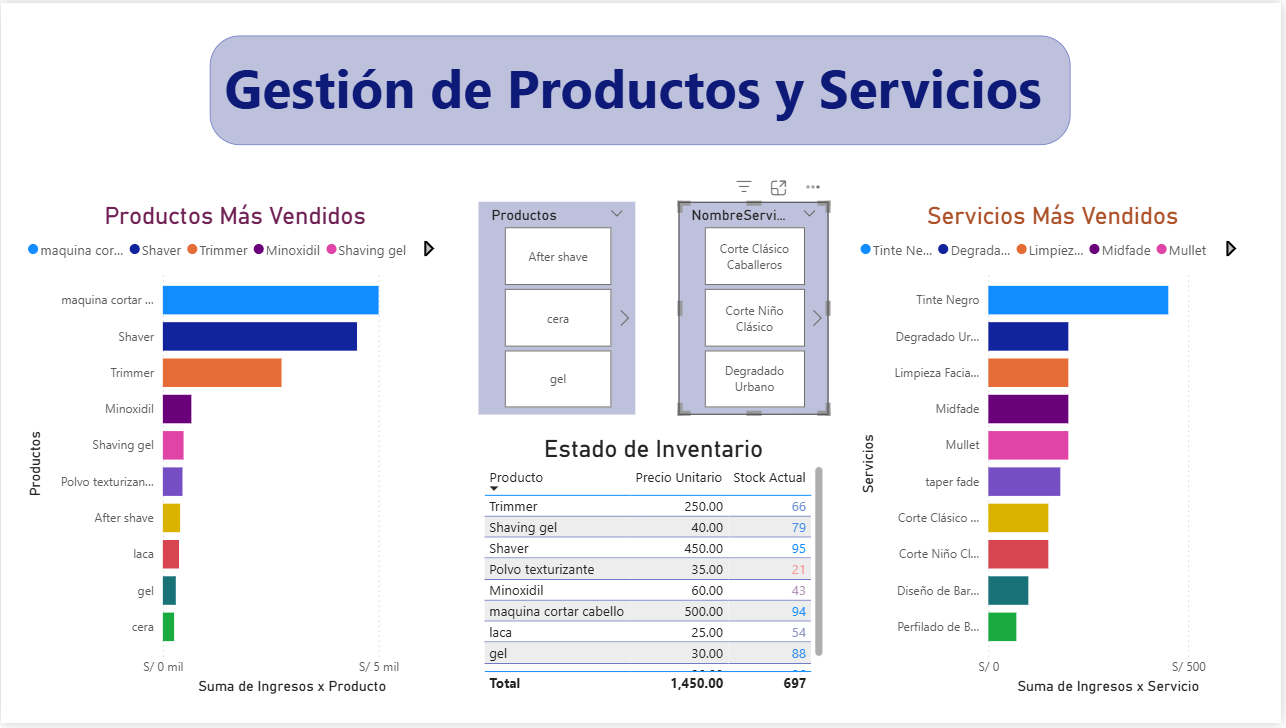

The page's visual inventory and layout, read from the dashboard file:
{"tool":"powerbi","page":{"name":"Gestión de Productos y Servicios","canvas":[1280,720],"ordinal":2},"visuals":[{"type":"barChart","title":"Productos Más Vendidos","fields":{"Category":["V_ProductosMasVendidos.NombreProducto"],"Y":["Sum(V_ProductosMasVendidos.IngresosPorProducto)"],"Series":["V_ProductosMasVendidos.NombreProducto"]},"box":[21.4,198.6,425.7,497.1],"z":0},{"type":"barChart","title":"Servicios Más Vendidos","fields":{"Category":["V_ServiciosMasVendidos.NombreServicio"],"Y":["Sum(V_ServiciosMasVendidos.IngresosPorServicio)"],"Series":["V_ServiciosMasVendidos.NombreServicio"]},"box":[854.3,198.6,395.7,497.1],"z":1000},{"type":"tableEx","title":"Estado de Inventario","fields":{"Values":["V_NivelStockProductos.NombreProducto","Sum(V_NivelStockProductos.PrecioUnitario)","Sum(V_NivelStockProductos.StockActual)"]},"box":[477.1,431.4,350,262.9],"z":2000},{"type":"slicer","fields":{"Values":["V_ProductosMasVendidos.NombreProducto"]},"box":[477.1,198.6,157.1,212.9],"z":3000},{"type":"slicer","fields":{"Values":["V_ServiciosMasVendidos.NombreServicio"]},"box":[677.1,198.6,150,212.9],"z":4000},{"type":"textbox","box":[209.3,32.6,860.5,109.3],"z":5000}]}

Visuals, with their boxes in screenshot pixels (x1, y1, x2, y2), scaled from the page's 1280x720 canvas onto the 1286x728 screenshot:
"Productos Más Vendidos" barChart: box=[22, 201, 449, 703]
"Servicios Más Vendidos" barChart: box=[858, 201, 1256, 703]
"Estado de Inventario" tableEx: box=[479, 436, 831, 702]
slicer - V_ProductosMasVendidos.NombreProducto: box=[479, 201, 637, 416]
slicer - V_ServiciosMasVendidos.NombreServicio: box=[680, 201, 831, 416]
textbox: box=[210, 33, 1075, 143]
